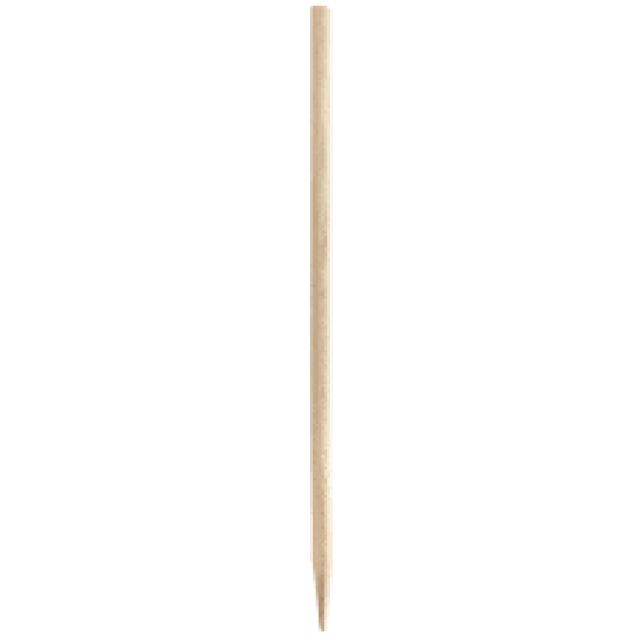stick: (311, 6, 330, 631)
